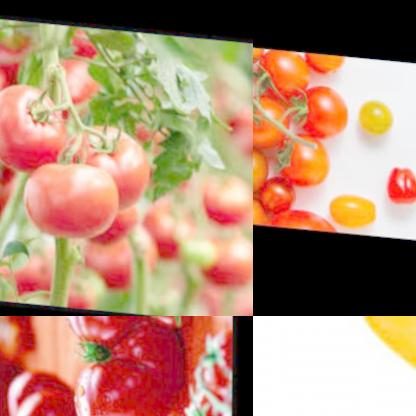pumpkin: (346, 316, 416, 416)
tomato: (64, 316, 193, 416), (26, 154, 121, 238), (64, 115, 150, 201), (0, 78, 71, 175), (0, 352, 67, 416), (285, 76, 353, 139), (276, 124, 338, 185), (82, 225, 138, 284), (198, 222, 253, 282), (4, 242, 63, 294), (200, 163, 253, 220), (255, 43, 312, 95), (147, 195, 195, 251), (357, 86, 404, 139), (263, 194, 343, 225), (325, 183, 379, 226), (192, 318, 231, 377), (381, 150, 416, 205), (253, 88, 289, 141), (257, 167, 298, 210), (231, 88, 253, 156), (0, 22, 31, 68), (185, 384, 229, 416), (306, 47, 352, 75), (253, 133, 272, 192), (149, 316, 190, 332), (253, 39, 265, 67), (253, 187, 263, 218)
